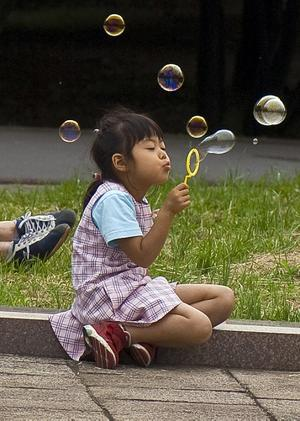person: (69, 108, 236, 378)
